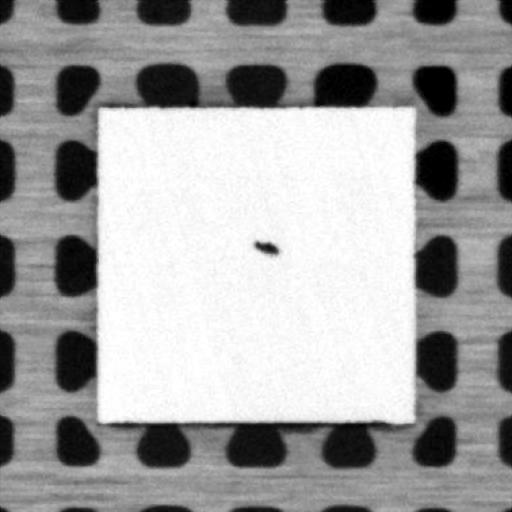DIE_INK: (252, 239, 282, 257)
